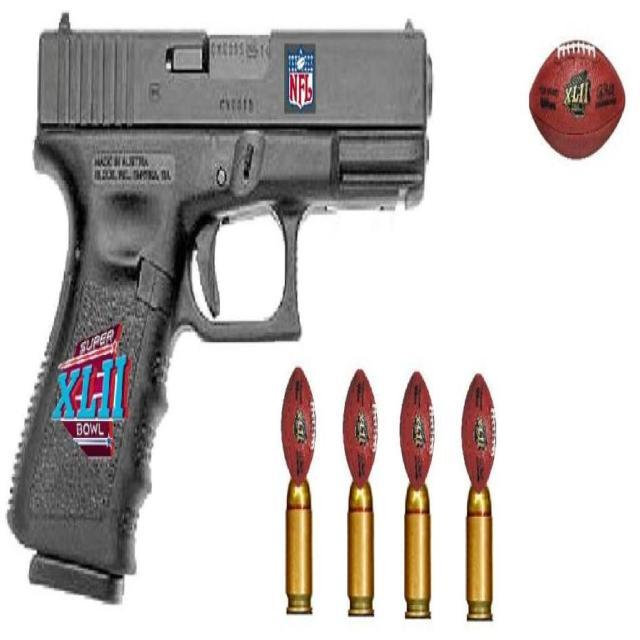Gun: (9, 16, 429, 599)
